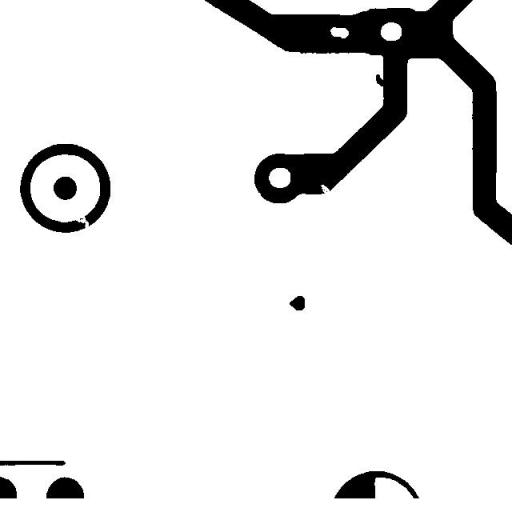copper: (282, 288, 312, 318)
mousebite: (312, 177, 338, 202)
open: (67, 207, 96, 236)
pin-hole: (322, 19, 356, 46)
spur: (368, 66, 394, 94)
